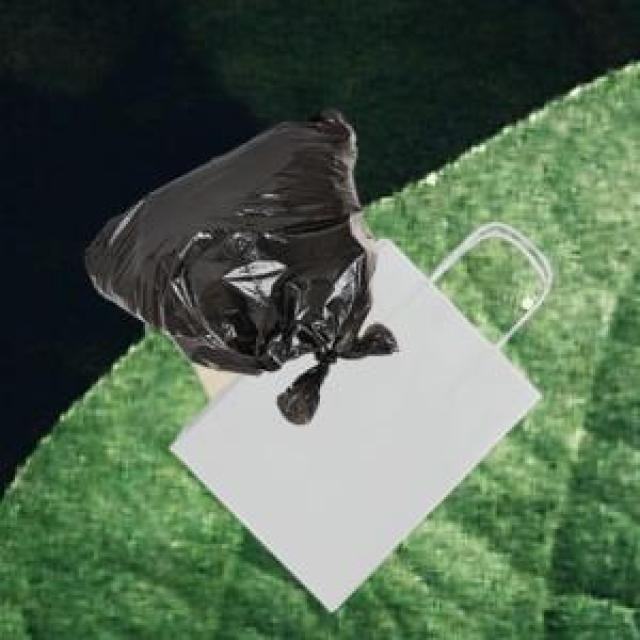miscellaneous trash: (81, 105, 395, 420)
paper: (166, 218, 548, 608), (190, 358, 235, 397)
